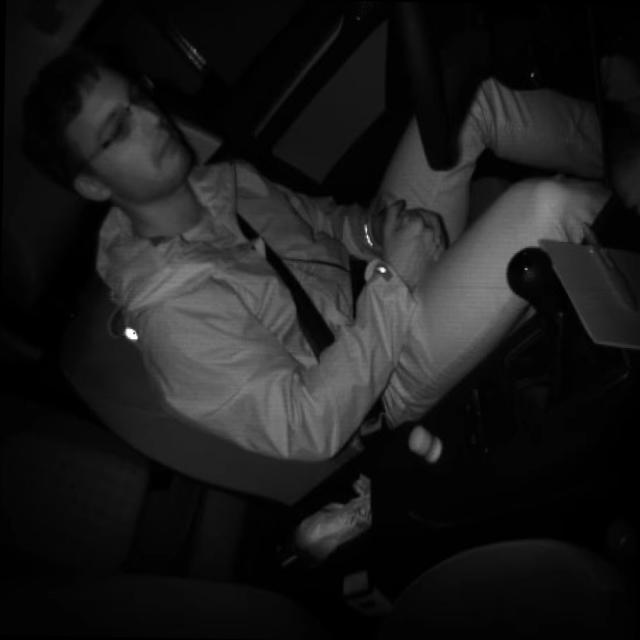pen: (577, 216, 636, 310)
